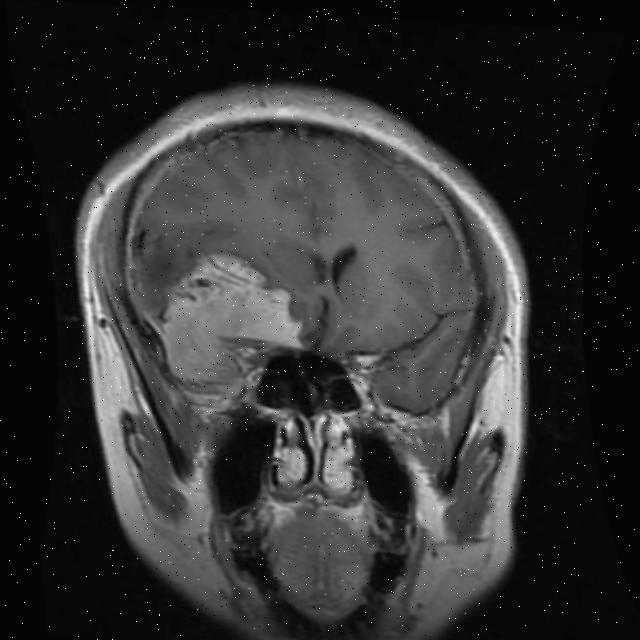Meningioma: (150, 244, 314, 402)
